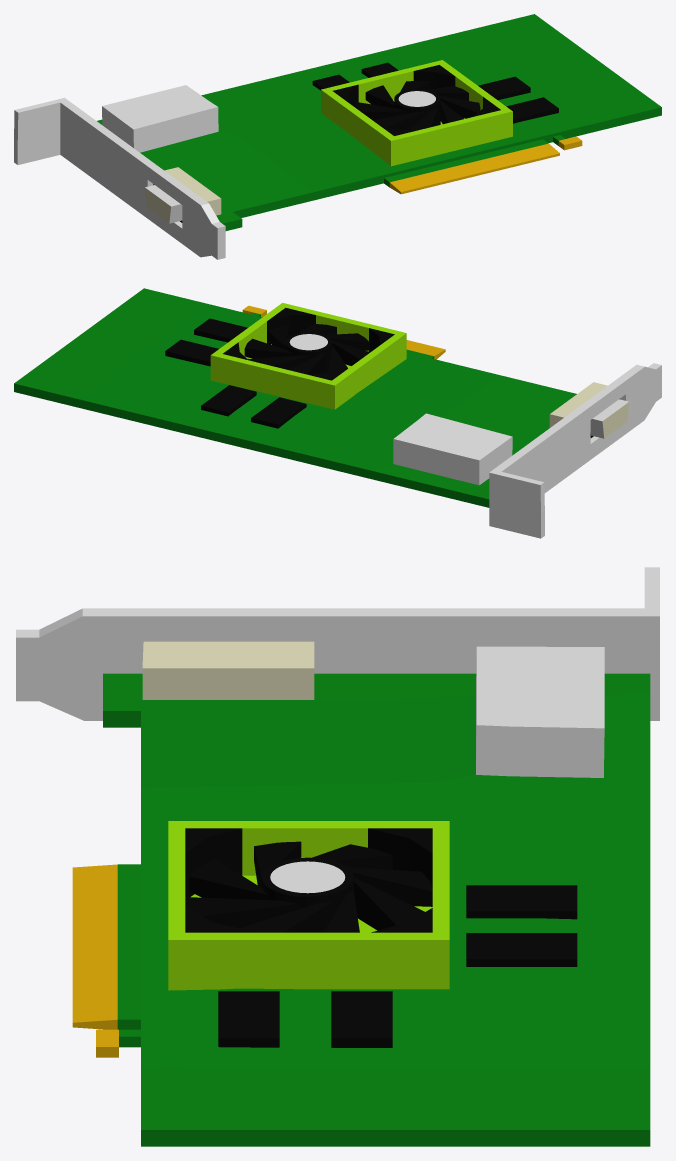
File: geforcefx5700.fbx
3 views of the same model, one above another, from view 1: azimuth 30°, elevation 25°; view 2: azimuth 150°, elevation 25°; view 3: azimuth 270°, elevation 25° (orthographic). The views are drawn at different scales.
Visible parts, largest first — view 1: Plane.001, Cube, Cylinder, Cube.003, Cube.004; view 2: Plane.001, Cube, Cylinder, Cube.002, Cube.001, Cube.004, Cube.003; view 3: Plane.001, Cube, Cylinder, Cube.001, Cube.002, Cube.004, Cube.003.
Part boxes in pixels (box(x1,y1,x2,y2)): Plane.001: box(14, 14, 661, 259); Cube: box(321, 60, 512, 166); Cylinder: box(354, 81, 480, 129); Cube.003: box(506, 97, 558, 123); Cube.004: box(478, 76, 530, 99); Plane.001: box(14, 288, 661, 538); Cube: box(210, 303, 406, 409); Cylinder: box(244, 324, 370, 373); Cube.002: box(201, 385, 256, 416); Cube.001: box(251, 397, 306, 428); Cube.004: box(165, 339, 218, 366); Cube.003: box(194, 318, 247, 342); Plane.001: box(16, 567, 659, 1146); Cube: box(168, 821, 449, 990); Cylinder: box(185, 841, 432, 932); Cube.001: box(466, 885, 577, 919); Cube.002: box(466, 933, 577, 966); Cube.004: box(331, 991, 392, 1047); Cube.003: box(218, 991, 279, 1047).
Bounding box in the file's own units: 145 × 14.02 × 78.19.
